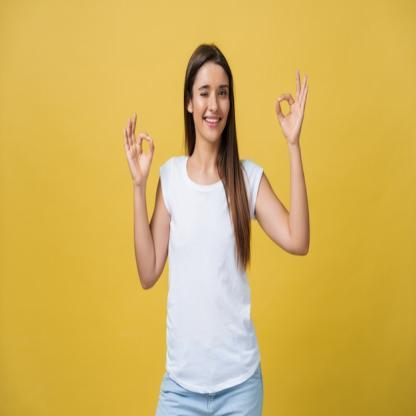ok: (272, 64, 314, 152), (120, 110, 158, 188)
